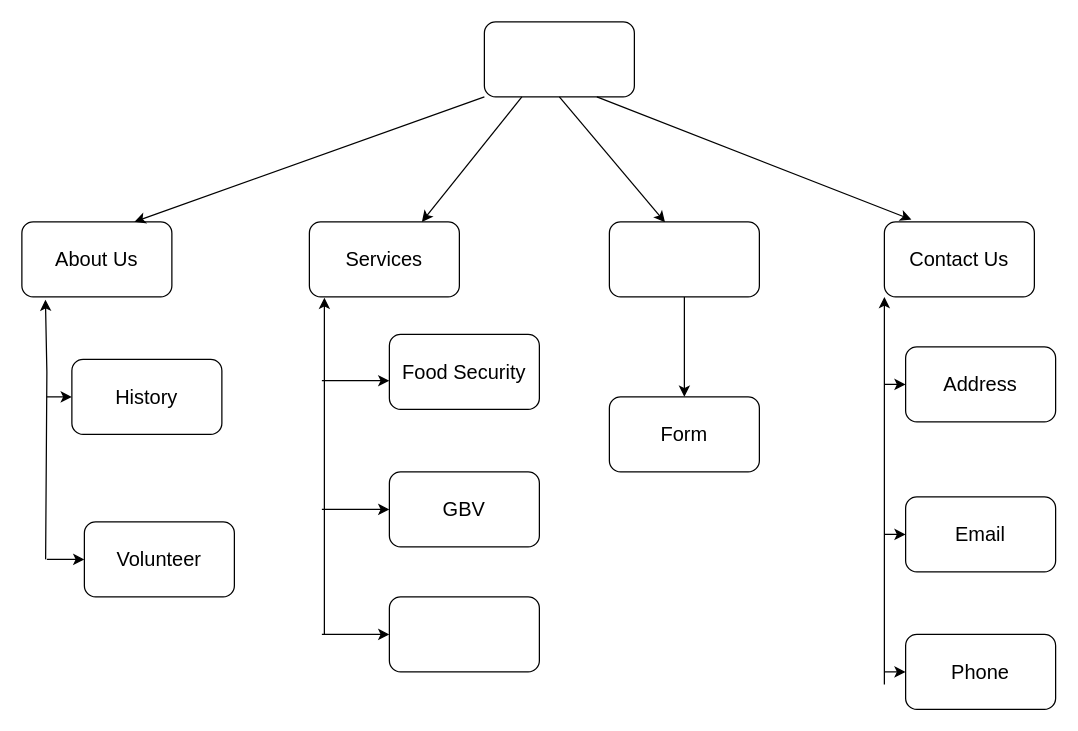
This 1078x731 diagram has some shape labels left out. Each missing label, with the centre of its shape:
"Enquiry" goes at pixel 683 259.
"Home" goes at pixel 558 59.
